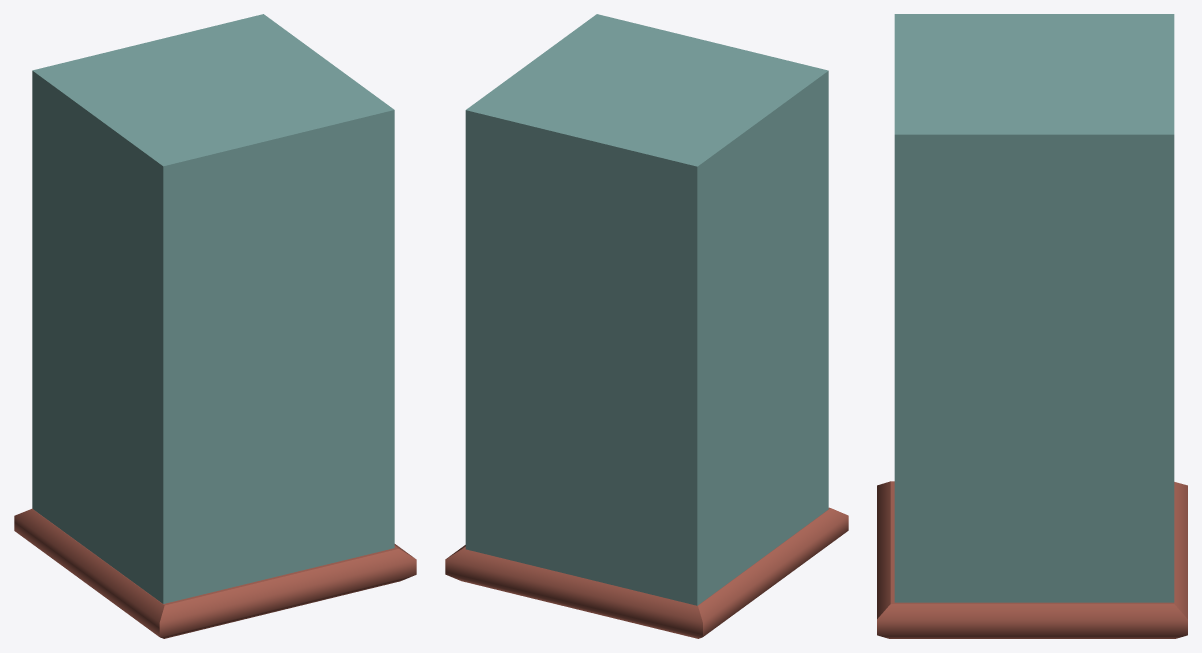
Rendered from house erker clean.fbx.
3 views of the same model, side by side, from view 1: azimuth 30°, elevation 25°; view 2: azimuth 150°, elevation 25°; view 3: azimuth 270°, elevation 25° (orthographic). The views are drawn at different scales.
Visible parts, largest first — view 1: Erker2, erkerFloor; view 2: Erker2, erkerFloor; view 3: Erker2, erkerFloor.
Boxes of the visible parts, x1,y1,x2,y2 form: Erker2: (32, 14, 394, 603); erkerFloor: (14, 508, 416, 638); Erker2: (465, 14, 828, 605); erkerFloor: (445, 507, 848, 638); Erker2: (894, 14, 1174, 602); erkerFloor: (877, 481, 1187, 638).
Size of the model in its own units: 61.26 by 107 by 60.08.
